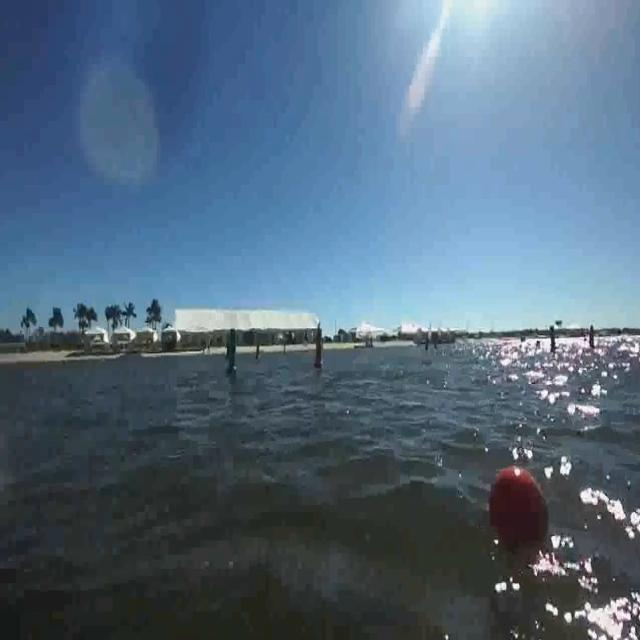green-column-buoy: (224, 328, 240, 374)
red-buoy: (485, 462, 555, 557)
red-column-buoy: (312, 327, 328, 370)
